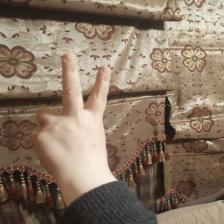two: (32, 52, 116, 183)
